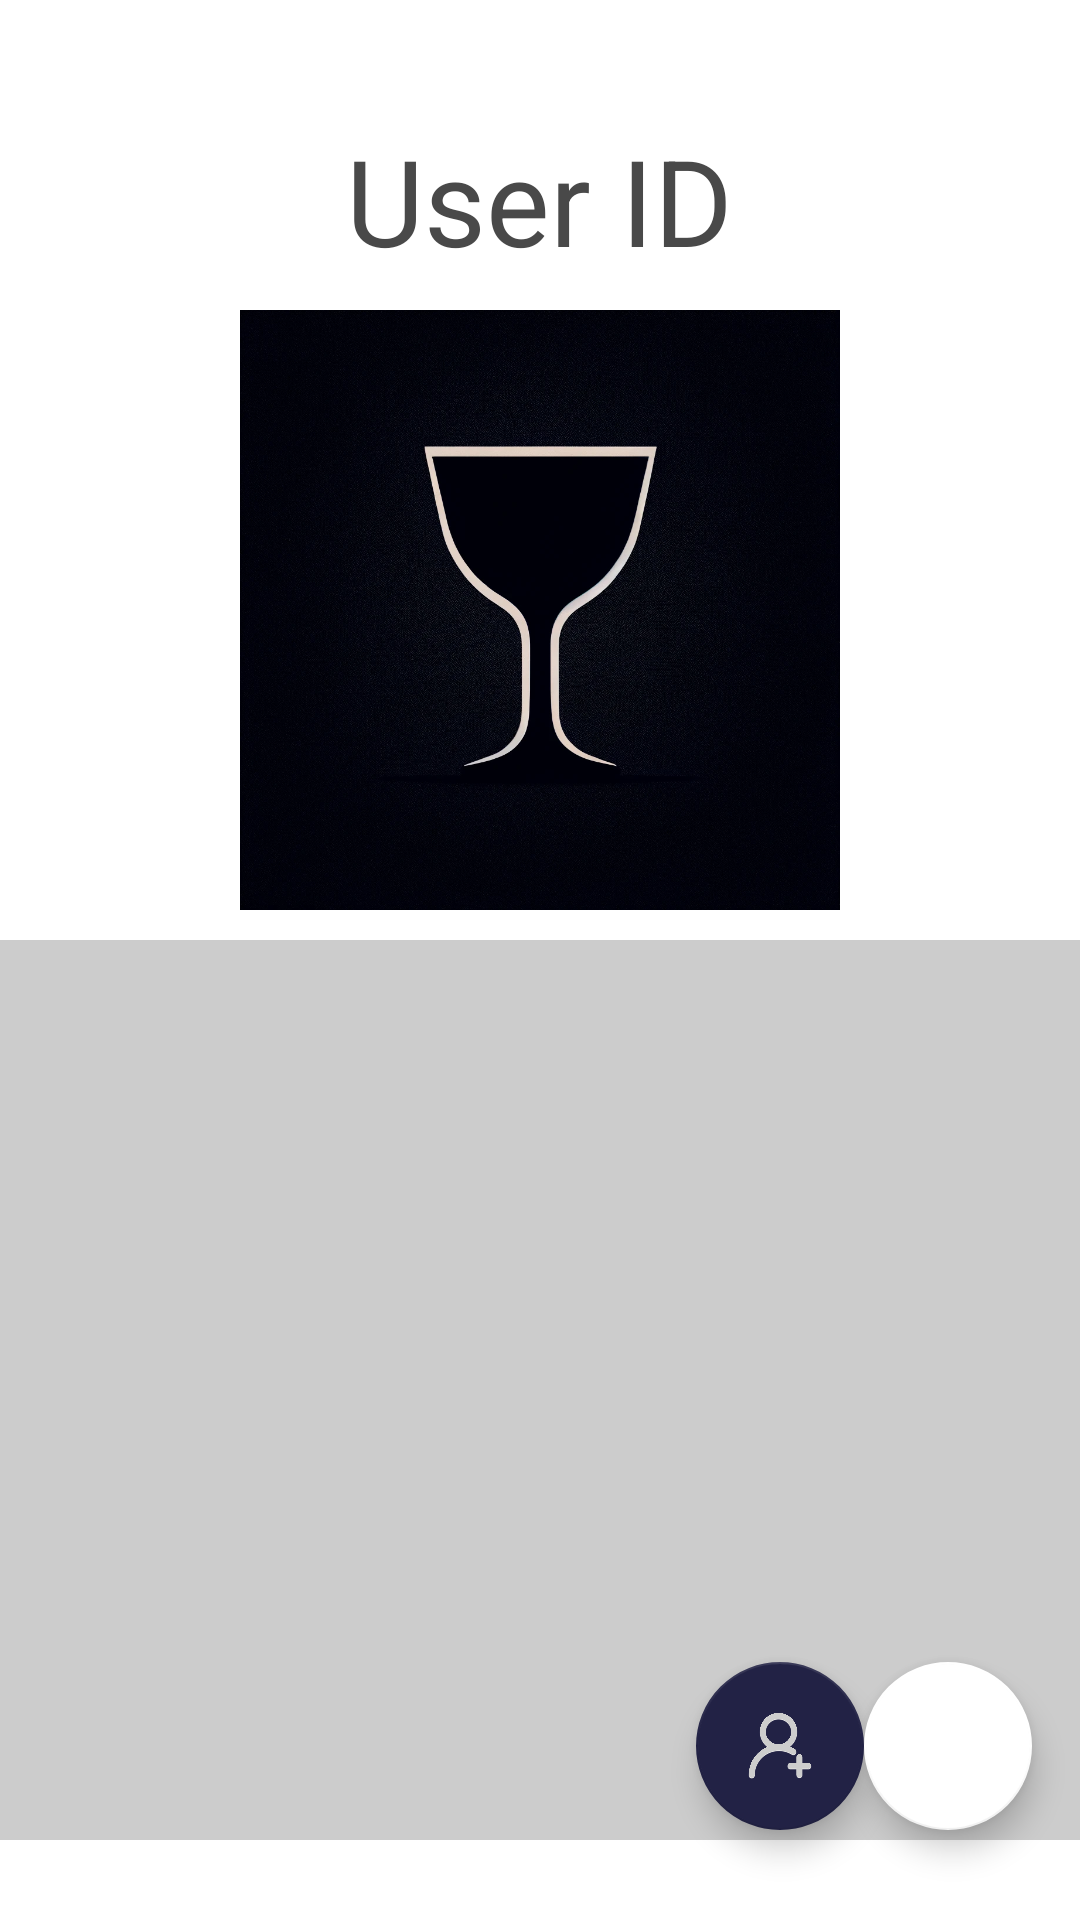

Screen size 1080×1920. Icon name, then its box in pixels as region(x1, y1, x2, y2):
addfriends: region(696, 1662, 864, 1830)
